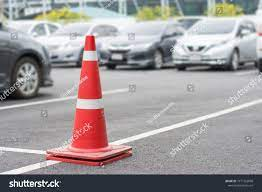car: (174, 20, 256, 73), (100, 21, 188, 70), (1, 17, 54, 97), (35, 24, 124, 70)
cone: (46, 35, 133, 166)
